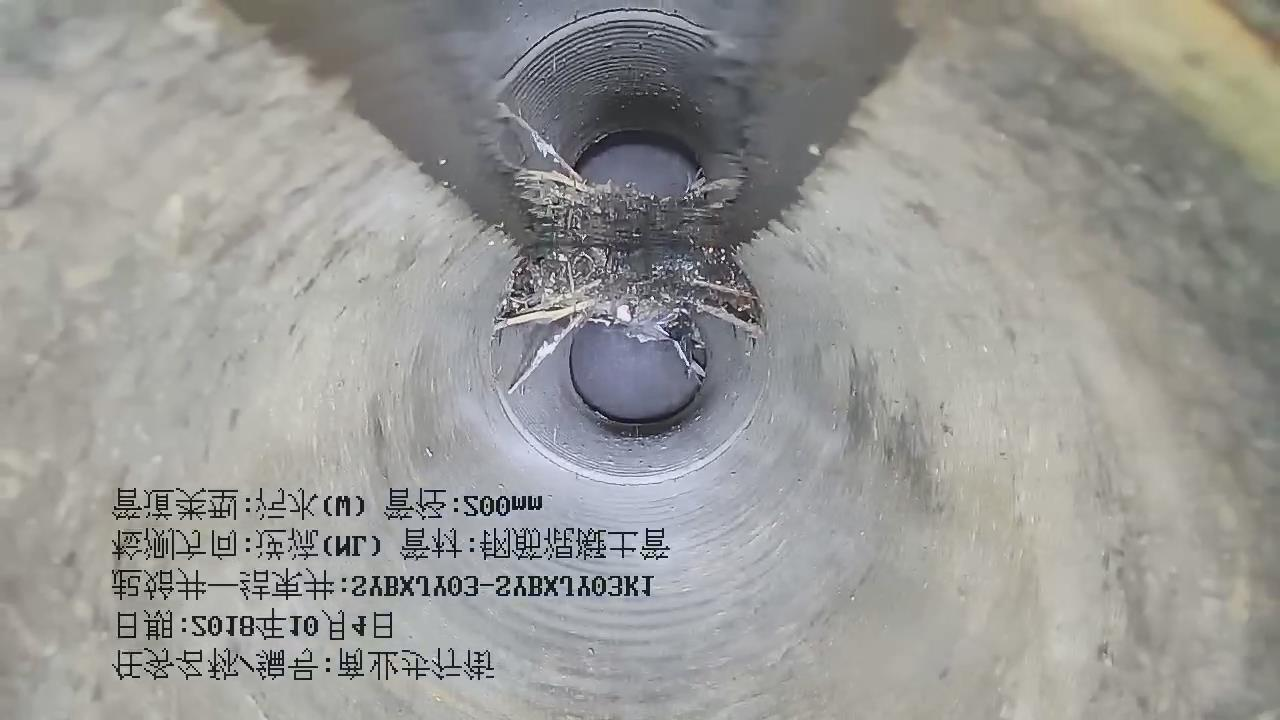CJ: (497, 247, 760, 376)
CKTJ: (498, 393, 753, 486)
